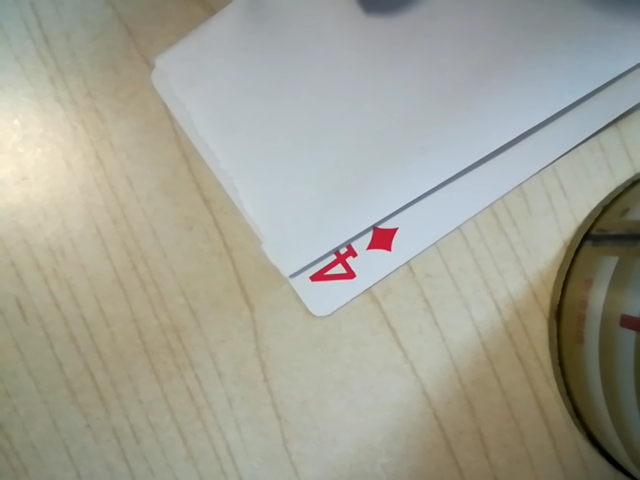fk 4: (301, 217, 403, 294)
